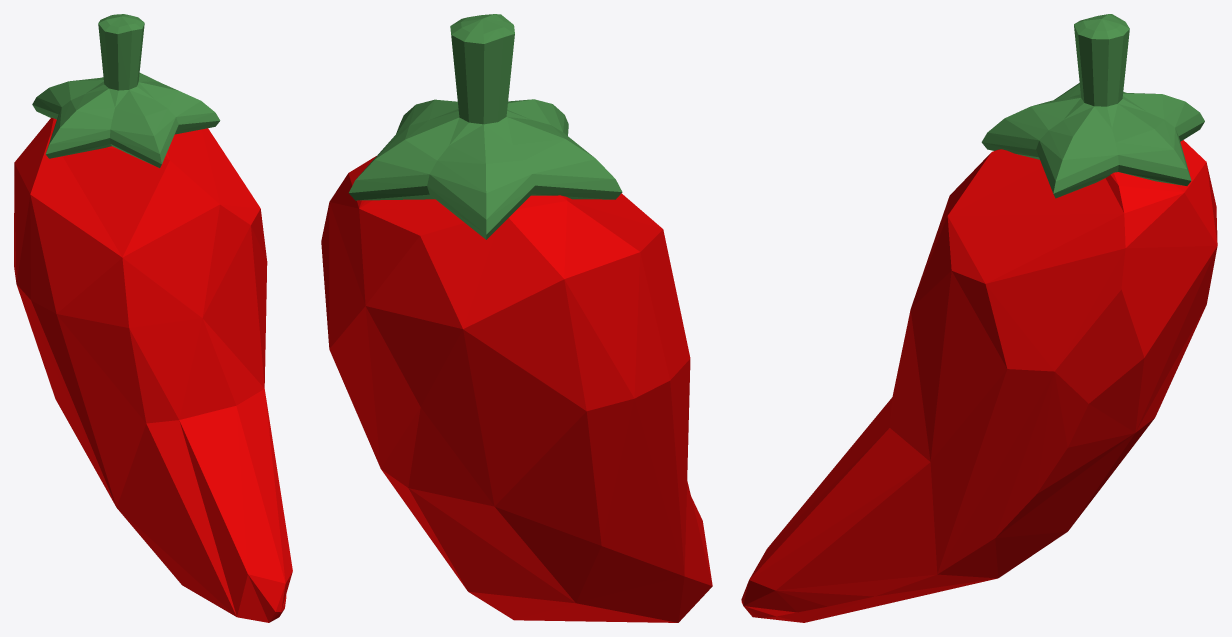
Rendered from 辣椒待機.fbx.
The picture shows the model from 3 angles, left to right: view 1: azimuth 30°, elevation 25°; view 2: azimuth 150°, elevation 25°; view 3: azimuth 270°, elevation 25°; orthographic projection. The views are drawn at different scales.
Visible parts, largest first — view 1: pSphere4; view 2: pSphere4; view 3: pSphere4.
Part boxes in pixels (left/top/right/bottom): pSphere4: left=14, top=14, right=292, bottom=622; pSphere4: left=321, top=14, right=712, bottom=622; pSphere4: left=741, top=14, right=1217, bottom=622.
Size of the model in its own units: 452 by 985 by 704.
